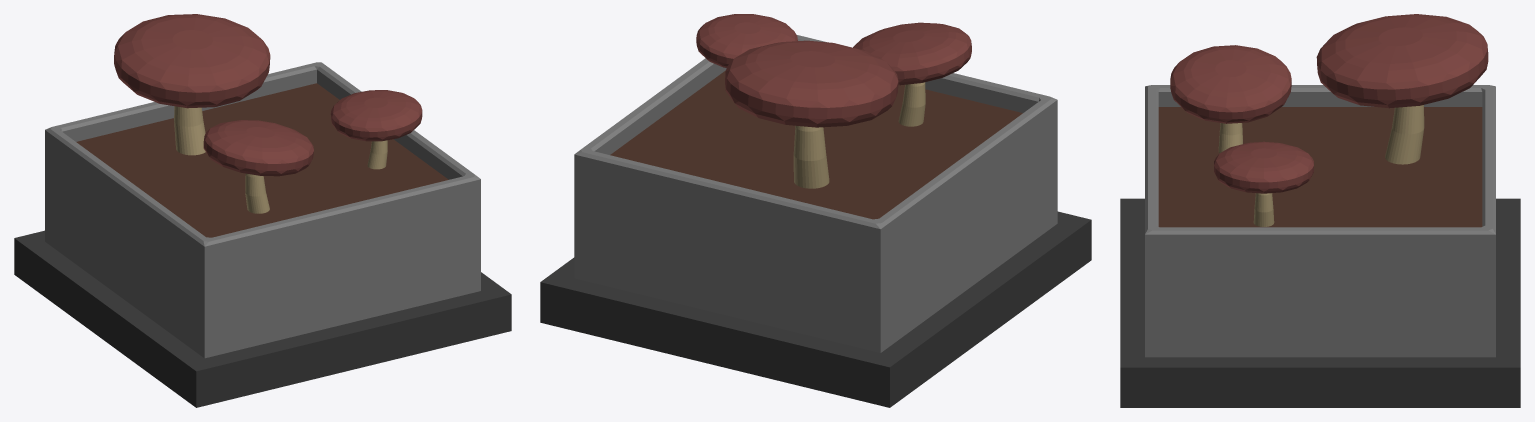
File: FungalDecomposer.glb
3 renders of one model, left to right at view 1: azimuth 30°, elevation 25°; view 2: azimuth 150°, elevation 25°; view 3: azimuth 270°, elevation 25°, orthographic. The views are drawn at different scales.
Parts seen in each view (by area): view 1: Cylinder; view 2: Cylinder; view 3: Cylinder.
Part boxes in pixels (x1,y1,x2,y2): Cylinder: [14, 14, 511, 407]; Cylinder: [540, 14, 1091, 407]; Cylinder: [1120, 14, 1520, 407].
Bounding box in the file's own units: 1.74 × 1.29 × 1.74.
